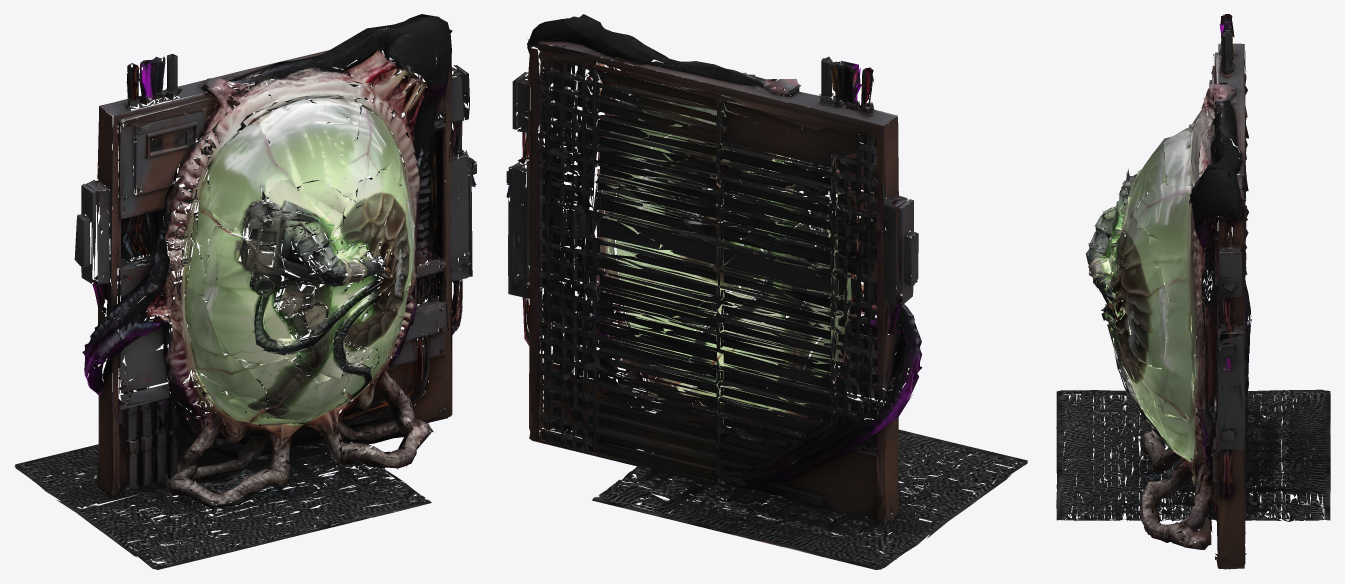
Rendered from hive_gestation_sac.glb.
The picture shows the model from 3 angles, left to right: view 1: azimuth 30°, elevation 25°; view 2: azimuth 150°, elevation 25°; view 3: azimuth 270°, elevation 25°; orthographic projection. The views are drawn at different scales.
Visible parts, largest first — view 1: node_0; view 2: node_0; view 3: node_0.
Boxes of the visible parts, bbox=[...] form: node_0: bbox=[14, 14, 476, 569]; node_0: bbox=[506, 14, 1027, 569]; node_0: bbox=[1056, 14, 1330, 569].
Bounding box in the file's own units: 0.7973 × 0.8001 × 0.4798.
1 material, 1 textured.
